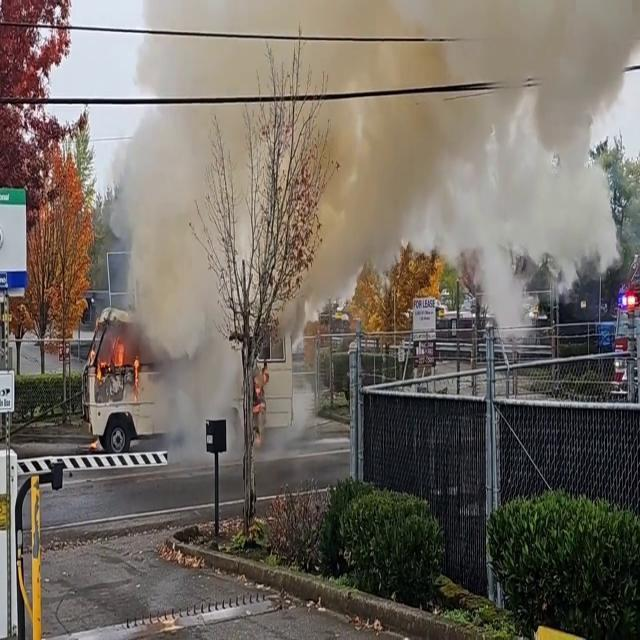Fire: (96, 323, 130, 384)
Smoke: (130, 2, 640, 458), (461, 151, 623, 364)
